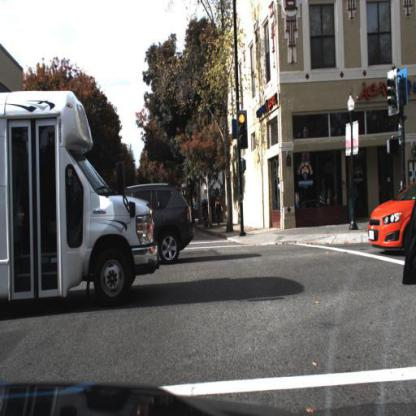car: (369, 190, 416, 256)
pedestrian: (406, 167, 416, 231)
trafficLight: (237, 111, 249, 152)
truck: (1, 91, 159, 313)
